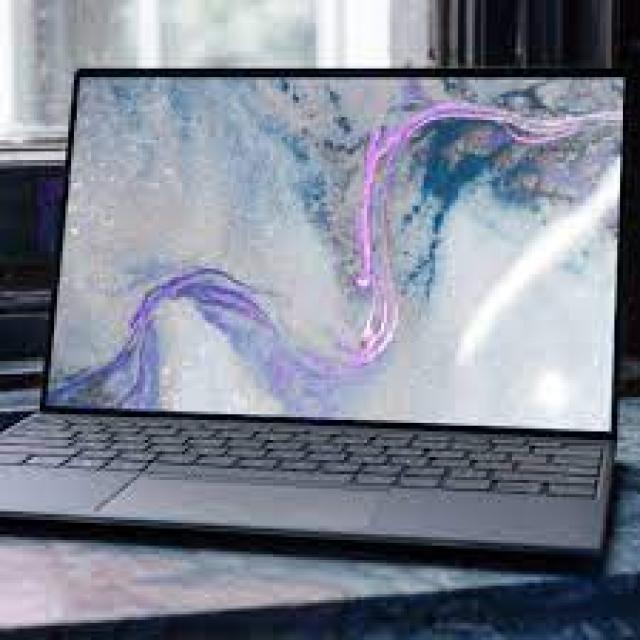others: (3, 51, 640, 568)
